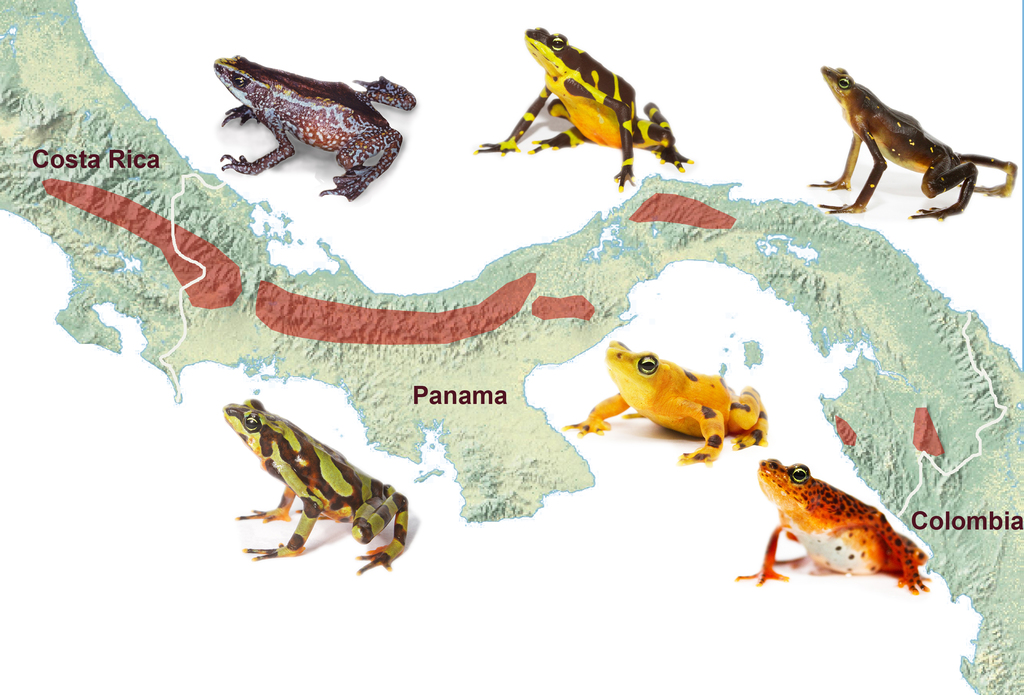person: (215, 54, 417, 203)
